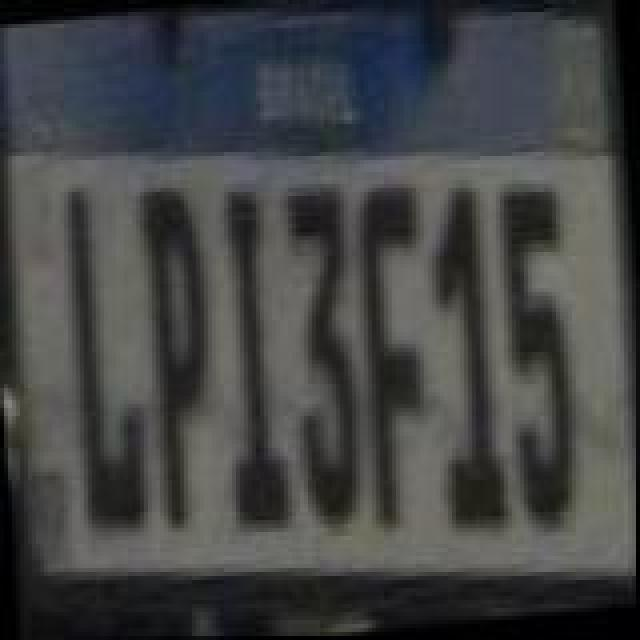1: (422, 180, 518, 536)
3: (272, 174, 372, 538)
5: (486, 174, 590, 526)
F: (348, 178, 448, 534)
I: (202, 176, 298, 540)
L: (60, 182, 160, 534)
P: (130, 182, 226, 534)
